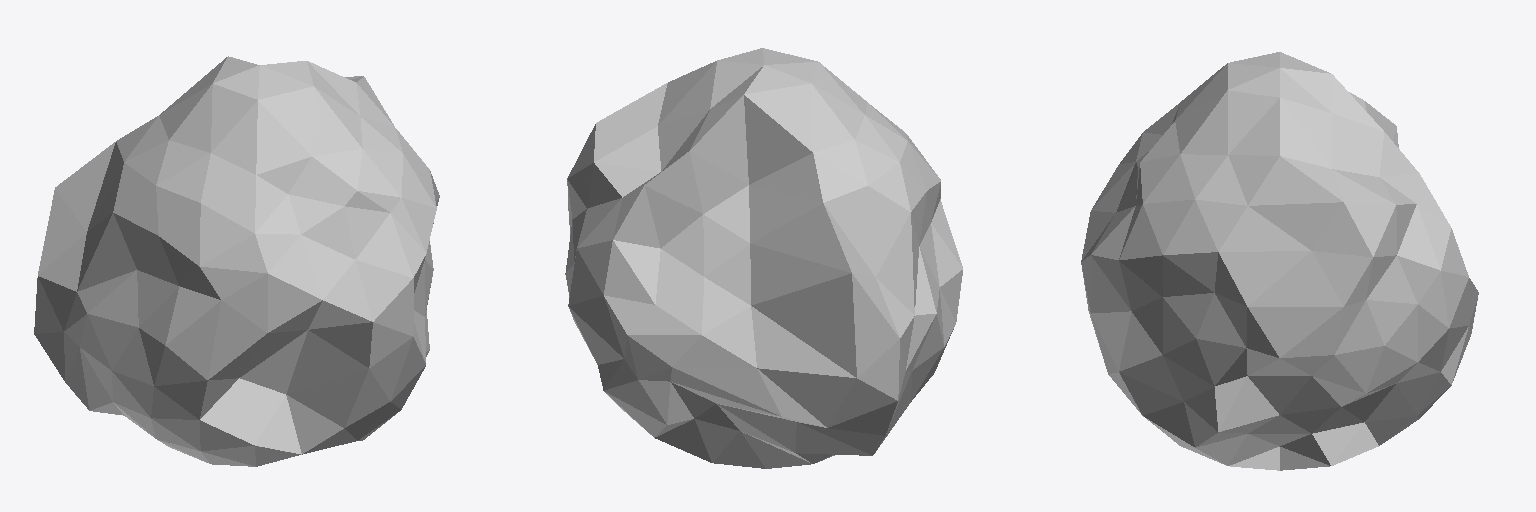
The model's file is Meteor.obj.
3 renders of one model, left to right at view 1: azimuth 30°, elevation 25°; view 2: azimuth 150°, elevation 25°; view 3: azimuth 270°, elevation 25°, orthographic.
Visible parts, largest first — view 1: Meteor; view 2: Meteor; view 3: Meteor.
Part boxes in pixels (bbox=[...]): Meteor: bbox=[34, 56, 439, 466]; Meteor: bbox=[565, 48, 962, 468]; Meteor: bbox=[1081, 52, 1478, 470].
Bounding box in the file's own units: 6.13 × 6.32 × 6.